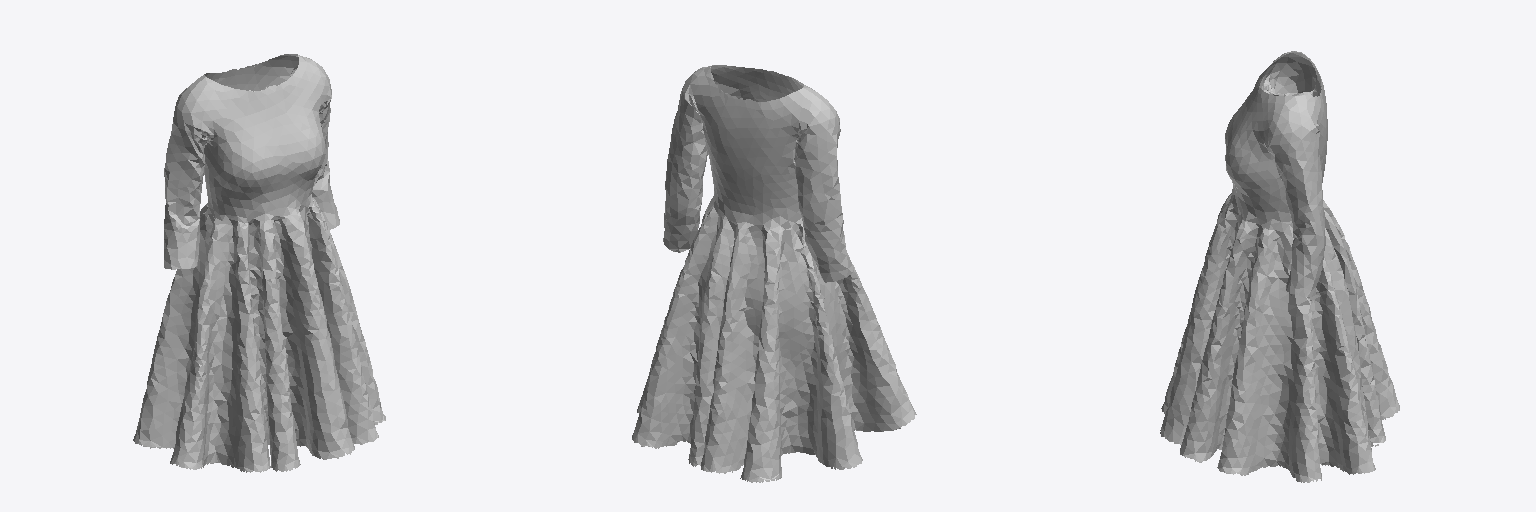
Rendered from dress-v5k-f10k.obj.
3 renders of one model, left to right at view 1: azimuth 30°, elevation 25°; view 2: azimuth 150°, elevation 25°; view 3: azimuth 270°, elevation 25°, orthographic.
Size of the model in its own units: 23.76 by 36.31 by 21.5.